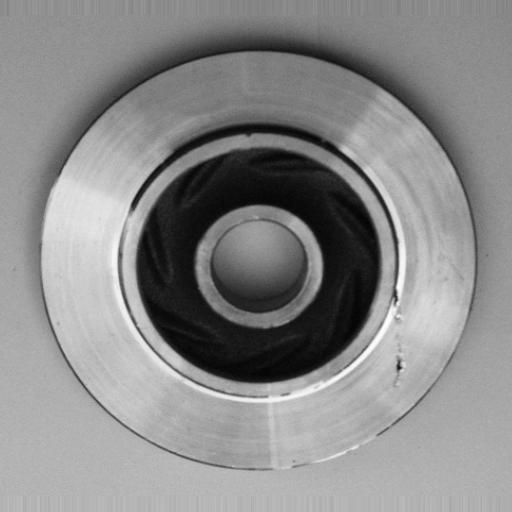crack: (380, 282, 410, 406)
scratch: (273, 426, 383, 481), (252, 375, 335, 410)
unpolished_casting: (40, 44, 478, 476)
